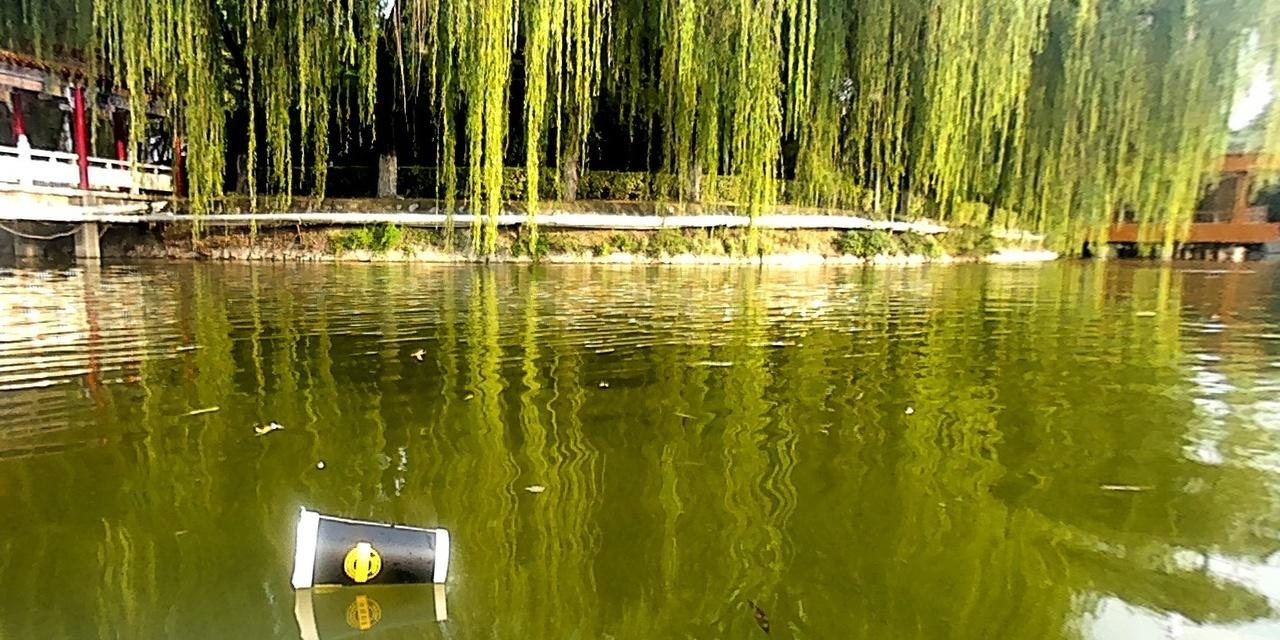bottle: (280, 502, 449, 588)
